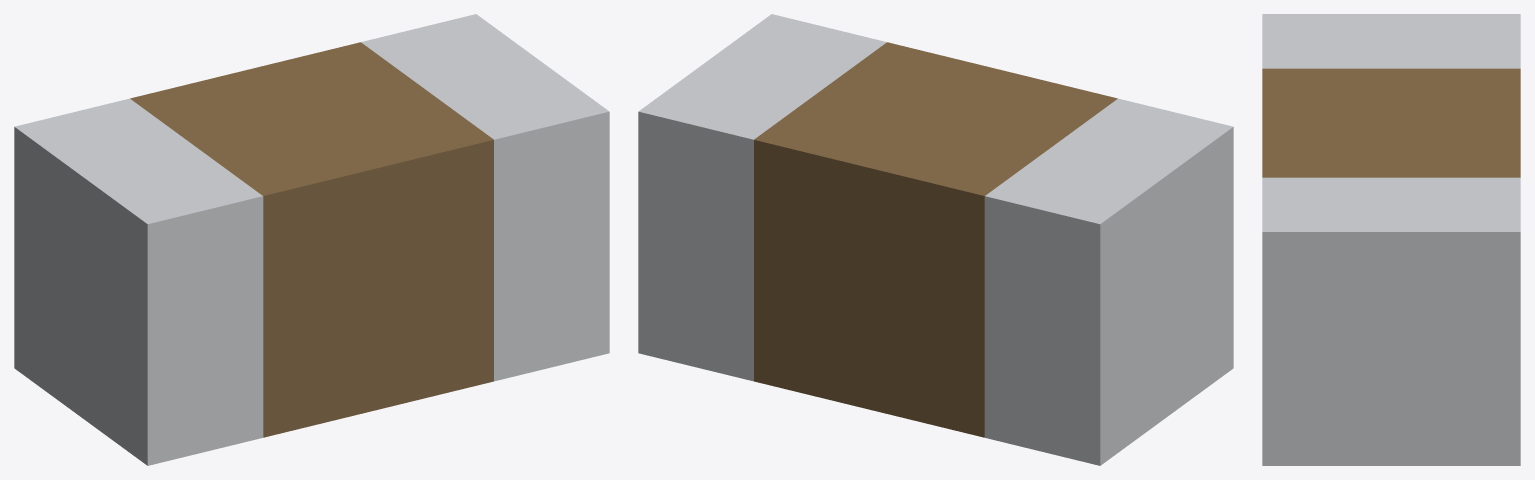
3 views of the same model, side by side, from view 1: azimuth 30°, elevation 25°; view 2: azimuth 150°, elevation 25°; view 3: azimuth 270°, elevation 25° (orthographic). The views are drawn at different scales.
Visible parts, largest first — view 1: body, term1, term2; view 2: body, term1, term2; view 3: term2, body, term1.
Part boxes in pixels (x1,y1,x2,y2): body: [130, 42, 493, 437]; term1: [14, 98, 263, 465]; term2: [361, 14, 609, 381]; body: [754, 42, 1117, 437]; term1: [984, 98, 1233, 465]; term2: [638, 14, 886, 381]; term2: [1262, 177, 1520, 465]; body: [1262, 68, 1520, 177]; term1: [1262, 14, 1520, 68].
Size of the model in its own units: 0.001 by 0.0005 by 0.0005.
